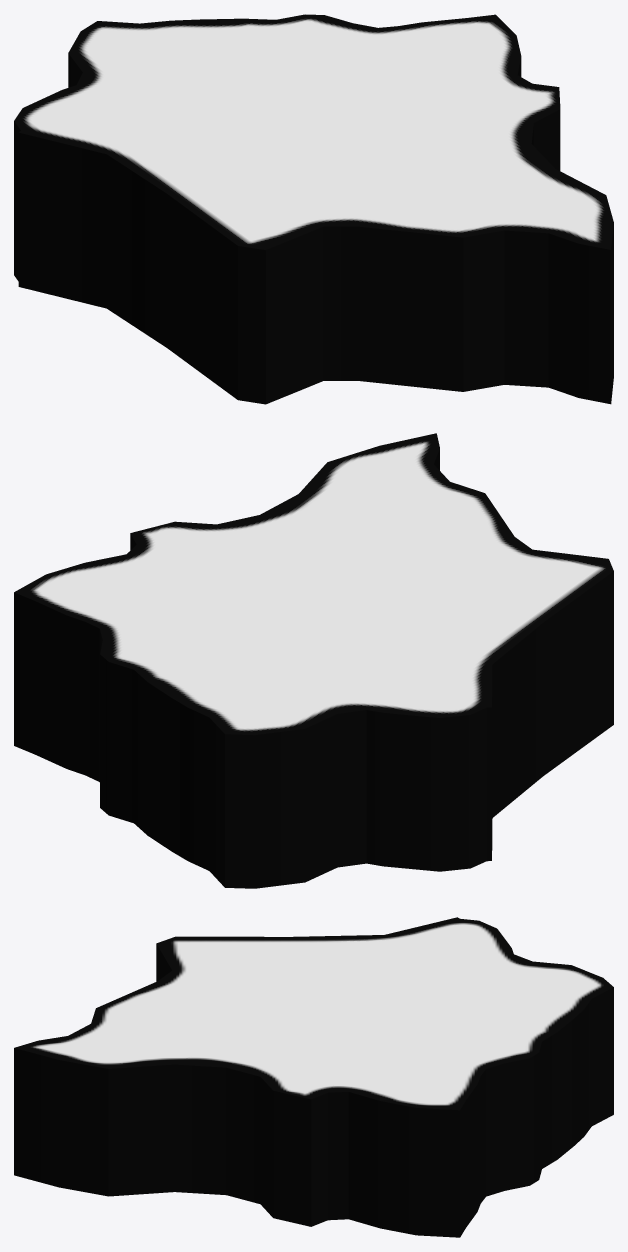
3 renders of one model, top to bottom at view 1: azimuth 30°, elevation 25°; view 2: azimuth 150°, elevation 25°; view 3: azimuth 270°, elevation 25°, orthographic. The views are drawn at different scales.
Parts seen in each view (by area): view 1: polySurface26; view 2: polySurface26; view 3: polySurface26.
Boxes of the visible parts, box(x1,y1,x2,y2) form: polySurface26: box(14, 14, 613, 404); polySurface26: box(14, 433, 613, 888); polySurface26: box(14, 917, 613, 1237).
Size of the model in its own units: 1.62 by 0.5 by 2.13.
